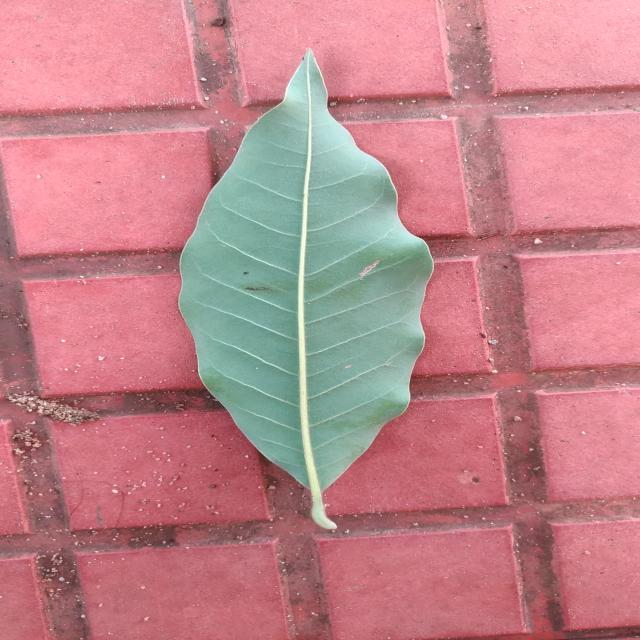coffee: (180, 51, 433, 529)
